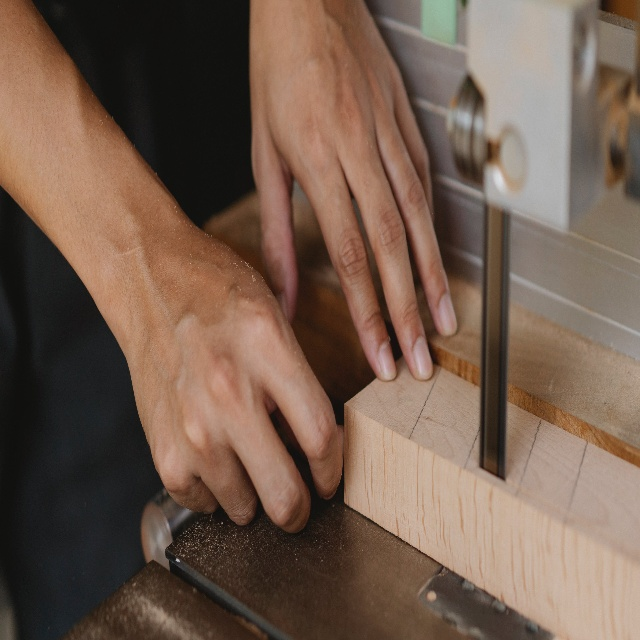Sin_guantes: (248, 0, 459, 384), (110, 220, 346, 534)
